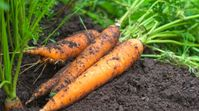carrot: (28, 17, 161, 111)
